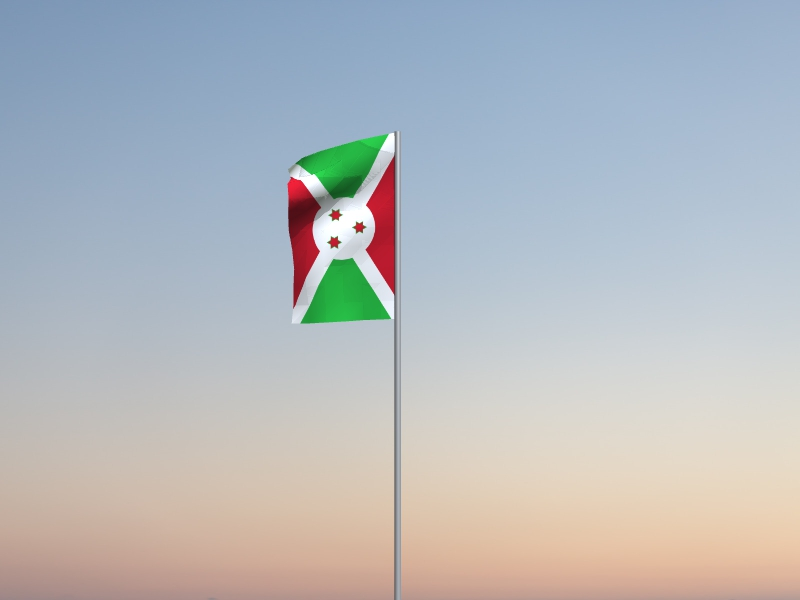bi: (287, 133, 395, 327)
